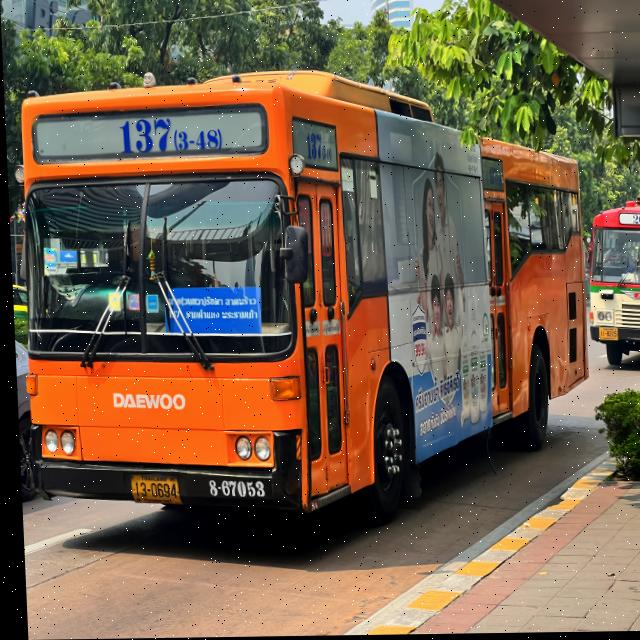BMTA-bus: (2, 43, 595, 548), (583, 186, 640, 379)
Bus Line Number: (109, 117, 225, 156), (626, 215, 640, 227)
Bus Side Number: (201, 476, 265, 501)
Destination Sign: (161, 284, 258, 336)
